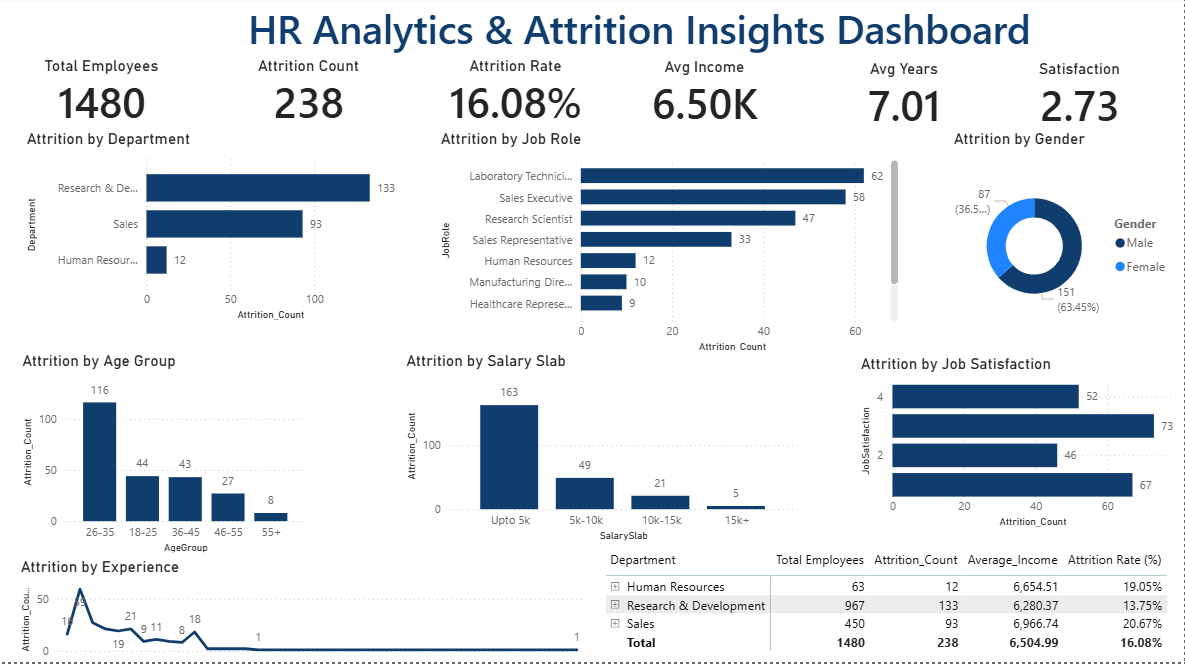

The dashboard page shown, as its layout file describes it:
{"tool":"powerbi","page":{"name":"Main","canvas":[1280,720],"ordinal":1},"visuals":[{"type":"textbox","box":[134.4,0,1115.6,66.4],"z":0},{"type":"clusteredBarChart","title":"Attrition by Department","fields":{"Category":["HR_Analytics.Department"],"Y":["Measuretable.Attrition_Count"]},"box":[25.9,144.1,417.8,210.5],"z":0,"group":"g2"},{"type":"group","id":"g1","title":"Group 1","box":[0,64.8,1279.2,79.3],"z":1000},{"type":"clusteredBarChart","title":"Attrition by Job Role","fields":{"Category":["HR_Analytics.JobRole"],"Y":["Measuretable.Attrition_Count"]},"box":[472.8,144.1,503.6,244.5],"z":1000,"group":"g2"},{"type":"group","id":"g2","title":"Group 2","box":[25.9,144.1,1250,244.5],"z":2000},{"type":"donutChart","title":"Attrition by Gender","fields":{"Category":["HR_Analytics.Gender"],"Y":["Measuretable.Attrition_Count"]},"box":[1026.6,144.1,249.4,231.5],"z":2000,"group":"g2"},{"type":"group","id":"g3","title":"Group 3","box":[21,383.8,1259.8,221.8],"z":3000},{"type":"clusteredColumnChart","title":"Attrition by Age Group","fields":{"Category":["HR_Analytics.AgeGroup"],"Y":["Measuretable.Attrition_Count"]},"box":[21,383.8,315.7,221.8],"z":3000,"group":"g3"},{"type":"card","title":"Total Employees","fields":{"Values":["Measuretable.Total Employees"]},"box":[0,64.8,223.5,76.2],"z":4000,"group":"g1"},{"type":"group","id":"g4","title":"Group 4","box":[19.4,592.6,1259.8,127.9],"z":4000},{"type":"clusteredColumnChart","title":"Attrition by Salary Slab","fields":{"Category":["HR_Analytics.SalarySlab"],"Y":["Measuretable.Attrition_Count"]},"box":[435.5,383.8,432.3,208.9],"z":5000,"group":"g3"},{"type":"clusteredBarChart","title":"Attrition by Job Satisfaction","fields":{"Category":["HR_Analytics.JobSatisfaction"],"Y":["Measuretable.Attrition_Count"]},"box":[926.1,387,354.6,191.1],"z":6000,"group":"g3"},{"type":"lineChart","title":"Attrition by Experience","fields":{"Category":["HR_Analytics.YearsAtCompany"],"Y":["Measuretable.Attrition_Count"]},"box":[19.4,605.6,620.2,115],"z":7000,"group":"g4"},{"type":"pivotTable","fields":{"Rows":["HR_Analytics.Department","HR_Analytics.JobRole"],"Values":["Measuretable.Total Employees","Measuretable.Attrition_Count","Measuretable.Average_Income","Measuretable.Attrition Rate (%)"]},"box":[650.9,592.6,628.3,127.9],"z":8000,"group":"g4"},{"type":"card","title":"Attrition Count","fields":{"Values":["Measuretable.Attrition_Count"]},"box":[223.5,64.8,223.5,76.2],"z":9000,"group":"g1"},{"type":"card","title":"Attrition Rate","fields":{"Values":["Measuretable.Attrition Rate (%)"]},"box":[446.9,64.8,223.5,76.2],"z":10000,"group":"g1"},{"type":"card","title":"Avg Income","fields":{"Values":["Measuretable.Average_Income"]},"box":[650.9,66.4,223.5,76.2],"z":11000,"group":"g1"},{"type":"card","title":"Avg Years","fields":{"Values":["Measuretable.Average_Years"]},"box":[866.3,67.9,223.5,76.2],"z":12000,"group":"g1"},{"type":"card","title":"Satisfaction","fields":{"Values":["Measuretable.Avg_Job Satisfaction"]},"box":[1055.7,67.9,223.5,76.2],"z":13000,"group":"g1"}]}

Visuals, with their boxes in screenshot pixels (x1, y1, x2, y2), scaled from the page's 1280x720 canvas onto the 1185x664 screenshot:
textbox: detection(124, 0, 1157, 61)
"Attrition by Department" clusteredBarChart: detection(24, 133, 411, 327)
"Group 1" group: detection(0, 60, 1184, 133)
"Attrition by Job Role" clusteredBarChart: detection(438, 133, 904, 358)
"Group 2" group: detection(24, 133, 1181, 358)
"Attrition by Gender" donutChart: detection(950, 133, 1181, 346)
"Group 3" group: detection(19, 354, 1184, 558)
"Attrition by Age Group" clusteredColumnChart: detection(19, 354, 312, 558)
"Total Employees" card: detection(0, 60, 207, 130)
"Group 4" group: detection(18, 547, 1184, 663)
"Attrition by Salary Slab" clusteredColumnChart: detection(403, 354, 803, 547)
"Attrition by Job Satisfaction" clusteredBarChart: detection(857, 357, 1184, 533)
"Attrition by Experience" lineChart: detection(18, 558, 592, 663)
pivotTable - HR_Analytics.Department x HR_Analytics.JobRole: detection(603, 547, 1184, 663)
"Attrition Count" card: detection(207, 60, 414, 130)
"Attrition Rate" card: detection(414, 60, 621, 130)
"Avg Income" card: detection(603, 61, 810, 132)
"Avg Years" card: detection(802, 63, 1009, 133)
"Satisfaction" card: detection(977, 63, 1184, 133)
